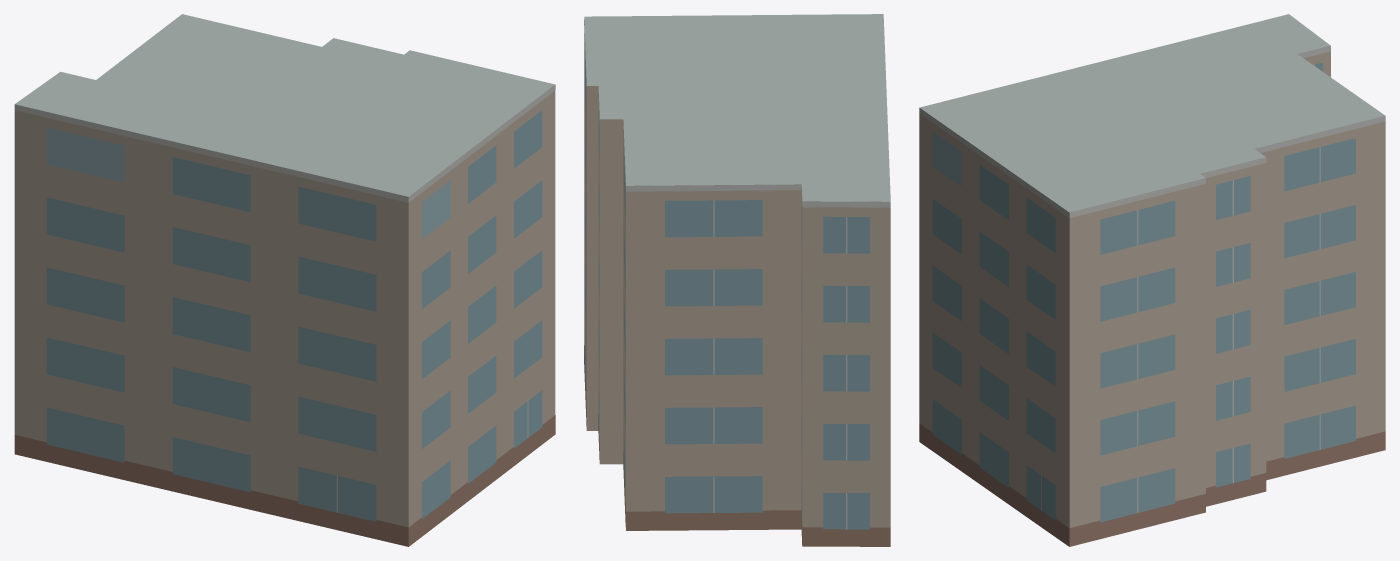
Rendered from survey-upis-32749733.glb.
3 views of the same model, side by side, from view 1: azimuth 30°, elevation 25°; view 2: azimuth 150°, elevation 25°; view 3: azimuth 270°, elevation 25° (orthographic). The views are drawn at different scales.
Visible parts, largest first — view 1: survey-upis-32749733.tmp; view 2: survey-upis-32749733.tmp; view 3: survey-upis-32749733.tmp.
Boxes of the visible parts, box(x1,y1,x2,y2) form: survey-upis-32749733.tmp: box(14, 14, 555, 546); survey-upis-32749733.tmp: box(584, 14, 890, 546); survey-upis-32749733.tmp: box(919, 14, 1385, 546).
Bounding box in the file's own units: 18.35 × 14.4 × 18.2.
